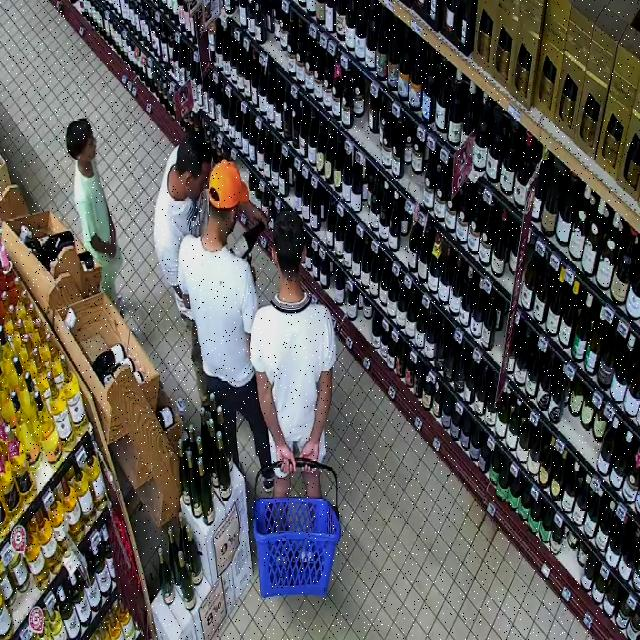article: (231, 221, 263, 259)
hands: (238, 202, 268, 226), (277, 443, 296, 474), (301, 439, 319, 462), (110, 218, 116, 245), (109, 239, 117, 258)
person: (178, 162, 270, 466), (250, 212, 335, 496), (154, 133, 211, 401), (66, 119, 121, 302)
